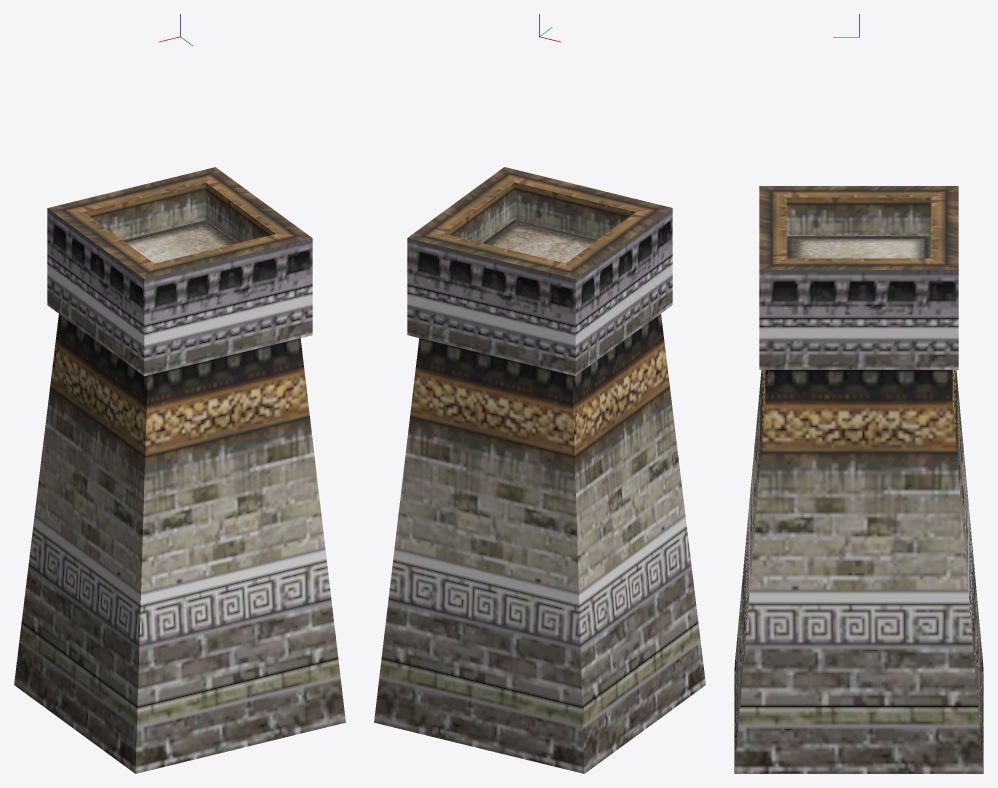
The model's file is greek-wall-connector.glb.
3 renders of one model, left to right at view 1: azimuth 30°, elevation 25°; view 2: azimuth 150°, elevation 25°; view 3: azimuth 270°, elevation 25°, orthographic. The views are drawn at different scales.
Visible parts, largest first — view 1: building g wallconnectorModel; view 2: building g wallconnectorModel; view 3: building g wallconnectorModel.
Boxes of the visible parts, bbox=[...] form: building g wallconnectorModel: bbox=[14, 167, 345, 773]; building g wallconnectorModel: bbox=[374, 167, 705, 773]; building g wallconnectorModel: bbox=[734, 186, 983, 773].
Size of the model in its own units: 2.41 by 7.54 by 2.41.
Materials: 3 (2 with a texture image).
